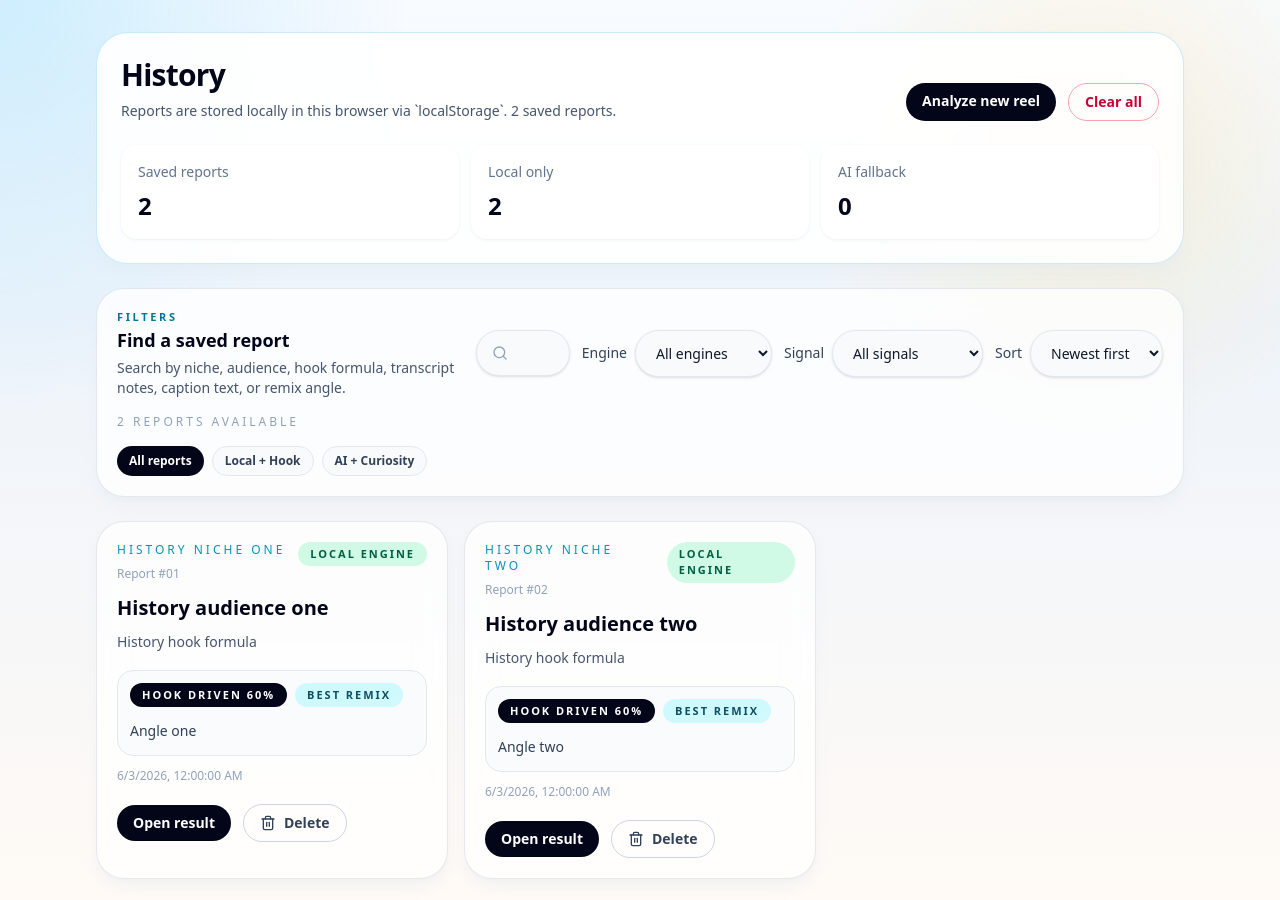
Test: HistoryPage › clears all saved reports and returns to the empty state
Expected: the text "2 saved reports." is shown, [511,101,616,120]
Click the button "Clear all". click: (1114, 102)
box: [1068,83,1159,121]
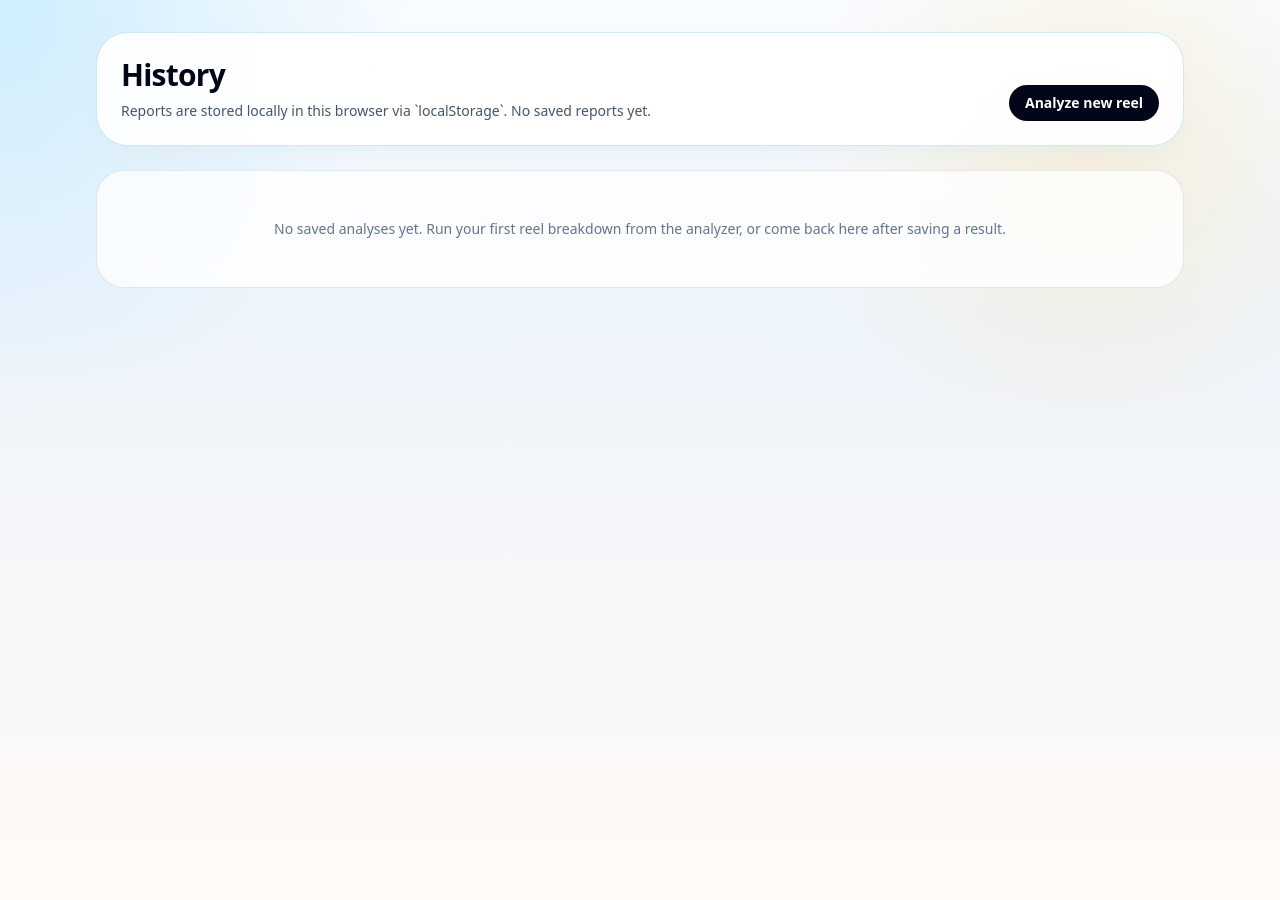
Now the text "No saved analyses yet." is shown, box [274,219,1006,238]
Now the button "Clear all" is gone
